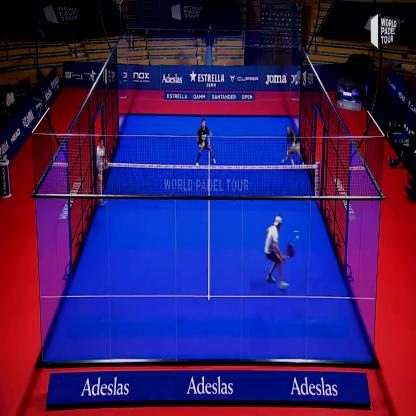ball: (294, 231, 300, 242)
